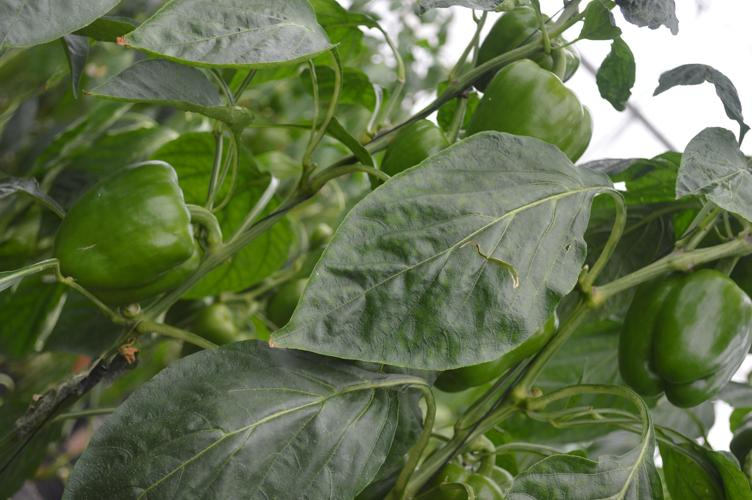BellPepper: (53, 159, 198, 302), (617, 267, 750, 404), (470, 63, 592, 162), (470, 7, 579, 85), (371, 119, 451, 172)
